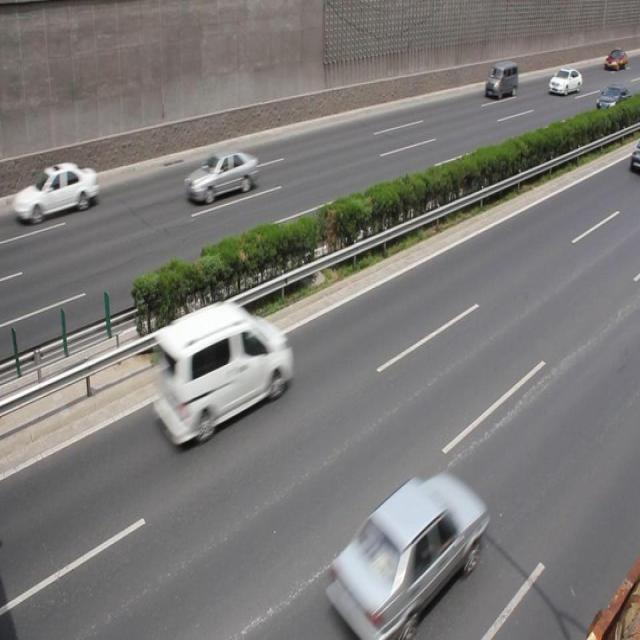car: (321, 472, 487, 623), (150, 305, 292, 443), (21, 160, 99, 223), (184, 151, 259, 206), (594, 83, 629, 116), (547, 68, 580, 96)
truck: (483, 59, 518, 100)
